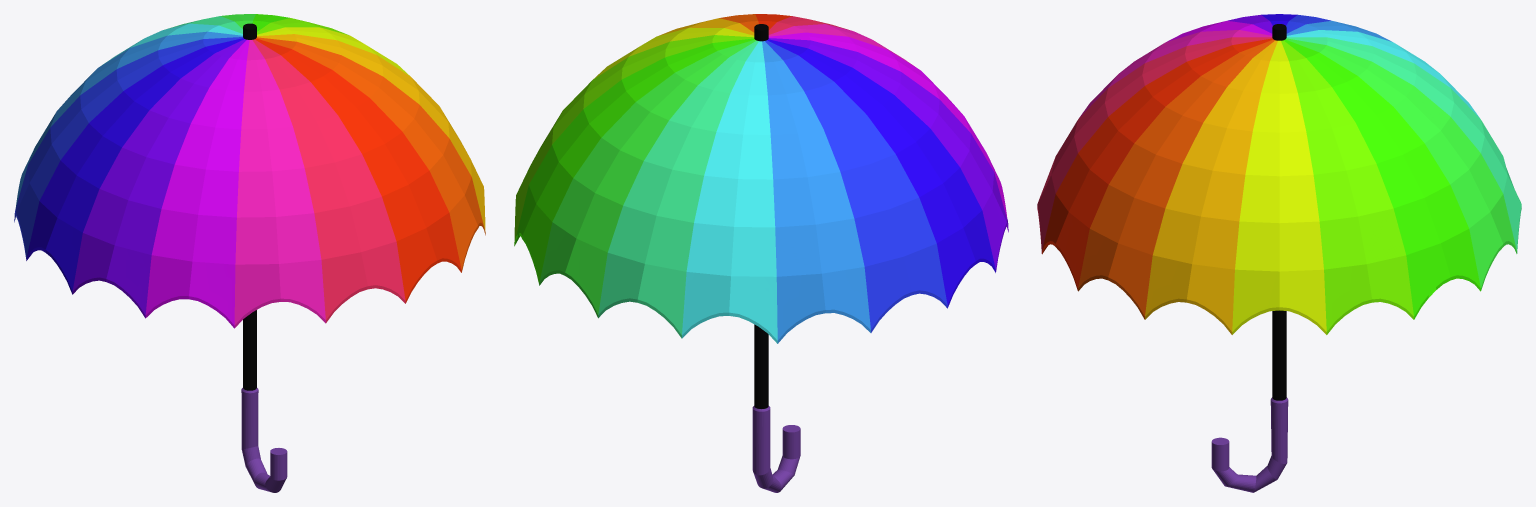
File: Umbrella.fbx
The picture shows the model from 3 angles, left to right: view 1: azimuth 30°, elevation 25°; view 2: azimuth 150°, elevation 25°; view 3: azimuth 270°, elevation 25°; orthographic projection. The views are drawn at different scales.
Visible parts, largest first — view 1: umbrella; view 2: umbrella; view 3: umbrella.
Boxes of the visible parts, x1,y1,x2,y2 form: umbrella: [14, 14, 485, 492]; umbrella: [514, 14, 1008, 492]; umbrella: [1037, 14, 1521, 492].
Size of the model in its own units: 24.03 by 25.48 by 24.03.
